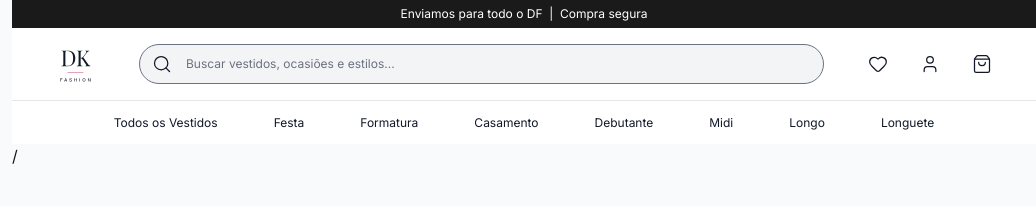
Test: Header › fecha o menu do usuário com Escape e devolve o foco ao botão
Click the button named "Minha conta" at (930, 64), box [908,42,952,86]
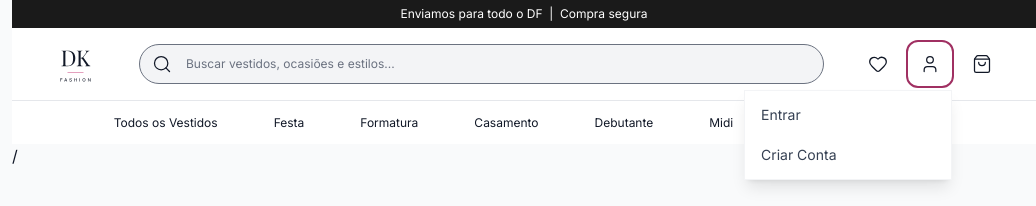
Press Escape
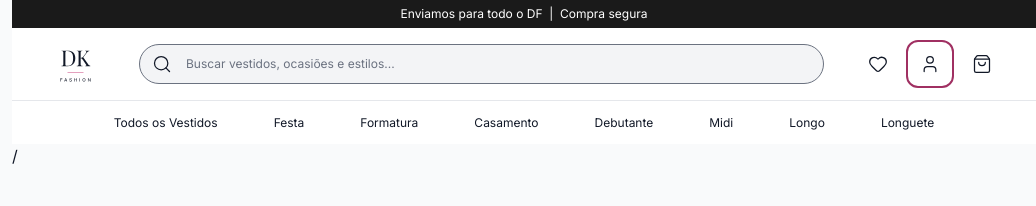
Expected: the link "Entrar" is gone
